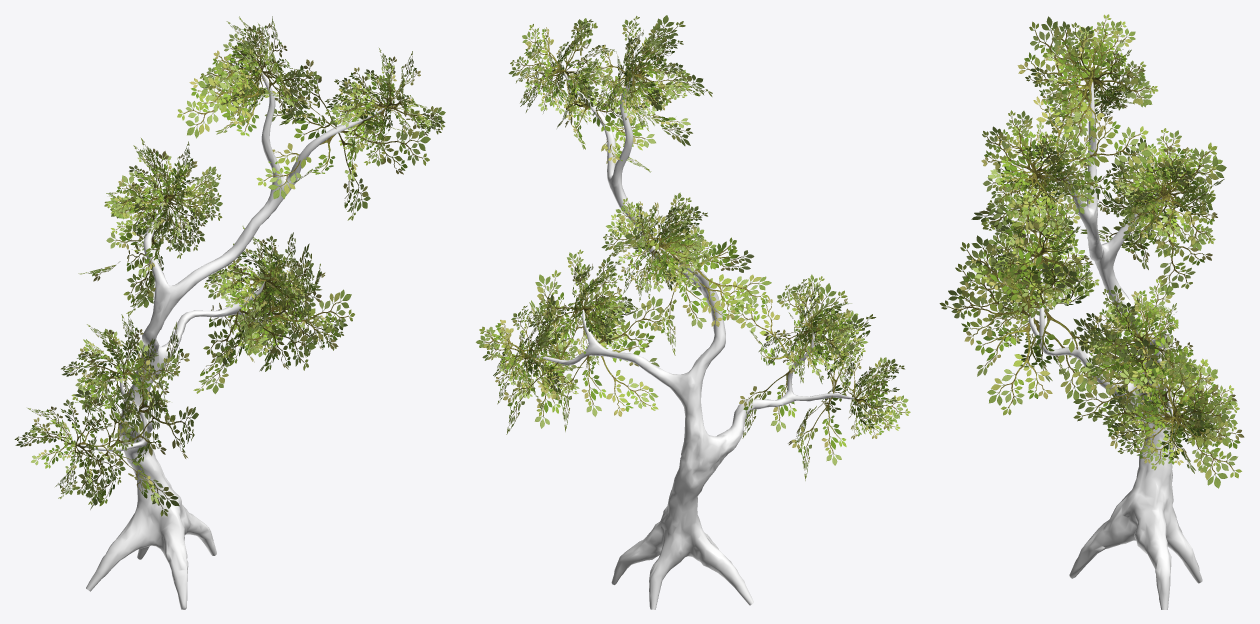
Rendered from Tree_3_2.fbx.
3 views of the same model, side by side, from view 1: azimuth 30°, elevation 25°; view 2: azimuth 150°, elevation 25°; view 3: azimuth 270°, elevation 25° (orthographic). The views are drawn at different scales.
Parts seen in each view (by area): view 1: Tree_3_2_LOD0; view 2: Tree_3_2_LOD0; view 3: Tree_3_2_LOD0.
Part boxes in pixels (box(x1,y1,x2,y2)): Tree_3_2_LOD0: box(14, 16, 445, 609); Tree_3_2_LOD0: box(476, 15, 910, 609); Tree_3_2_LOD0: box(939, 14, 1244, 609).
Size of what is drawn, in the model's own units: 589 by 782 by 360.
